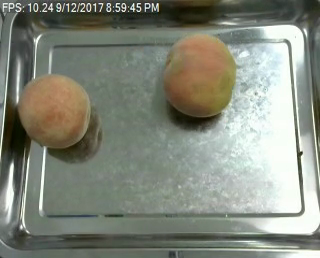Peach: (162, 32, 236, 117), (17, 72, 92, 150)
